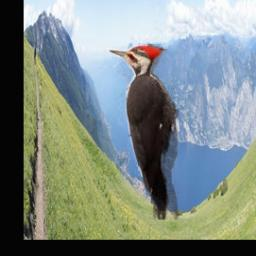Woodpecker: (105, 44, 179, 220)
